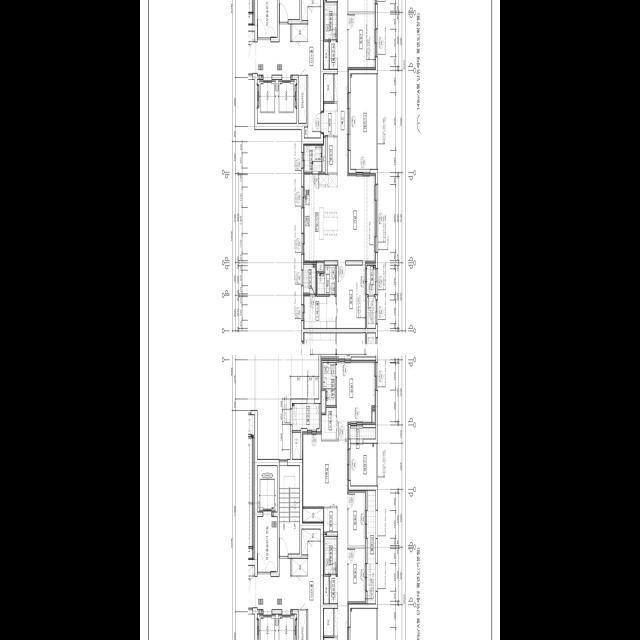background: (140, 0, 500, 640)
space_balconi: (351, 74, 377, 168), (321, 338, 376, 358), (351, 443, 377, 485), (367, 490, 376, 603), (351, 608, 377, 640), (292, 403, 319, 430), (350, 427, 376, 438), (367, 265, 376, 294)
space_bedroom: (337, 360, 376, 438), (327, 264, 366, 328), (348, 13, 376, 68), (348, 548, 366, 603), (348, 490, 366, 545)
space_dressroom: (303, 294, 326, 328), (321, 407, 336, 439)
space_elevator: (258, 465, 277, 516), (257, 74, 277, 122), (277, 74, 296, 122), (257, 609, 277, 640), (277, 609, 296, 640)
space_elevator_hall: (248, 0, 320, 137), (248, 516, 320, 640)
space_front: (322, 103, 338, 135)
space_kitchen: (304, 174, 338, 262)
space_living_room: (334, 0, 376, 262), (303, 431, 348, 640)
space_multipurpose_space: (304, 144, 322, 171)
space_other: (302, 529, 320, 554), (302, 0, 320, 20), (327, 137, 337, 172), (299, 75, 306, 122), (323, 508, 337, 531), (303, 508, 323, 522), (367, 297, 376, 328), (292, 558, 308, 575), (292, 24, 308, 41), (323, 608, 333, 635), (323, 74, 333, 101), (292, 432, 301, 459), (299, 610, 306, 640), (323, 576, 329, 603), (323, 41, 329, 68), (321, 390, 325, 412), (372, 407, 376, 424), (323, 137, 325, 171), (316, 262, 324, 270), (304, 127, 308, 137)
space_outdoor_room: (304, 264, 315, 292)
space_staircase: (279, 465, 300, 553), (279, 0, 300, 19)
space_toilet: (325, 536, 338, 603), (325, 2, 338, 68), (323, 362, 336, 405), (318, 265, 336, 294)
